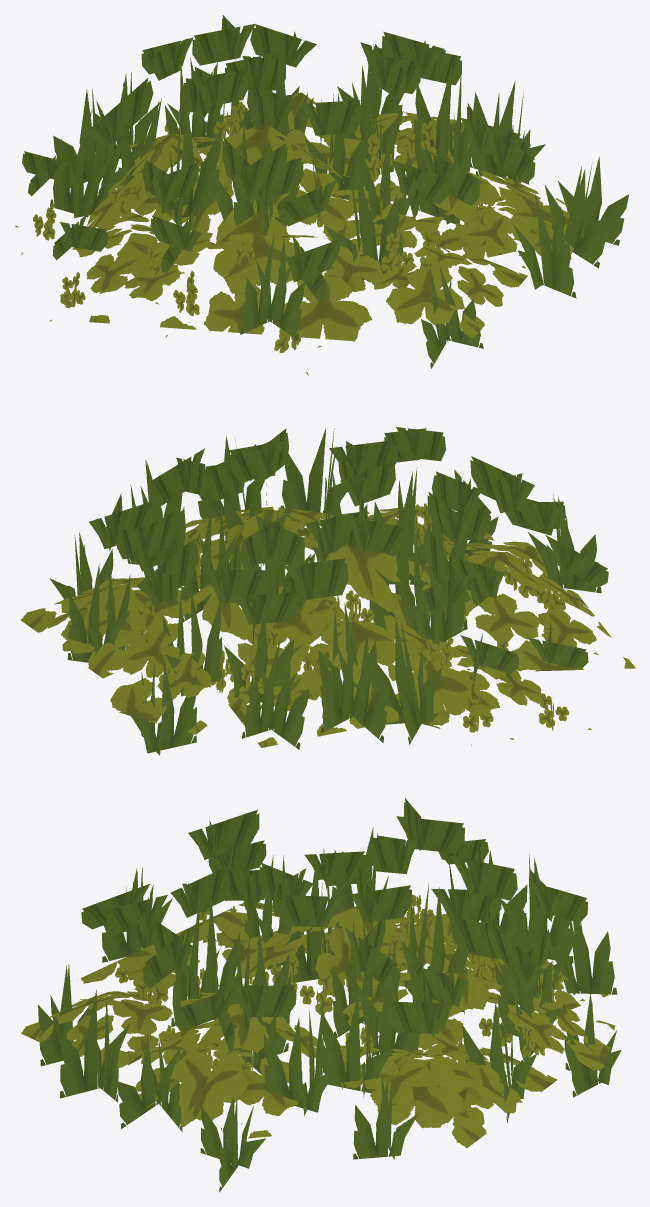
Rendered from SM_Env_Ground_Cover_05.fbx.
3 views of the same model, one above another, from view 1: azimuth 30°, elevation 25°; view 2: azimuth 150°, elevation 25°; view 3: azimuth 270°, elevation 25° (orthographic). The views are drawn at different scales.
Visible parts, largest first — view 1: SM_Env_Ground_Cover_05; view 2: SM_Env_Ground_Cover_05; view 3: SM_Env_Ground_Cover_05.
Boxes of the visible parts, box(x1,y1,x2,y2) form: SM_Env_Ground_Cover_05: box(15, 15, 629, 375); SM_Env_Ground_Cover_05: box(20, 425, 635, 755); SM_Env_Ground_Cover_05: box(21, 798, 621, 1192).
Bounding box in the file's own units: 305 × 119 × 299.
